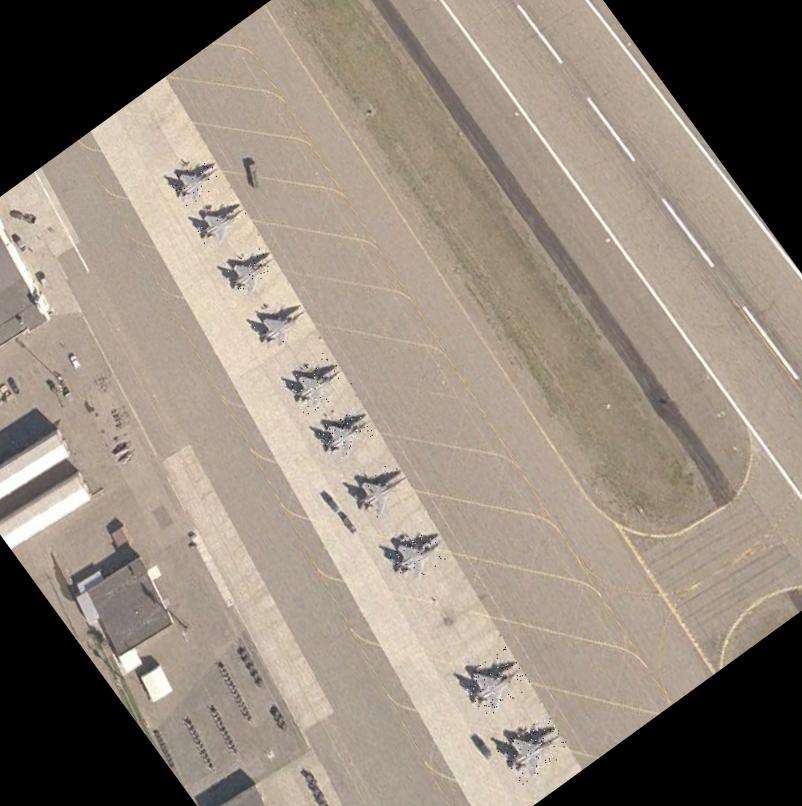A13: (496, 712, 573, 784), (459, 646, 534, 718), (282, 348, 353, 416), (346, 456, 416, 524), (384, 524, 449, 586), (190, 191, 255, 251), (249, 294, 312, 354), (314, 402, 376, 461), (168, 154, 226, 208), (220, 245, 276, 298)
